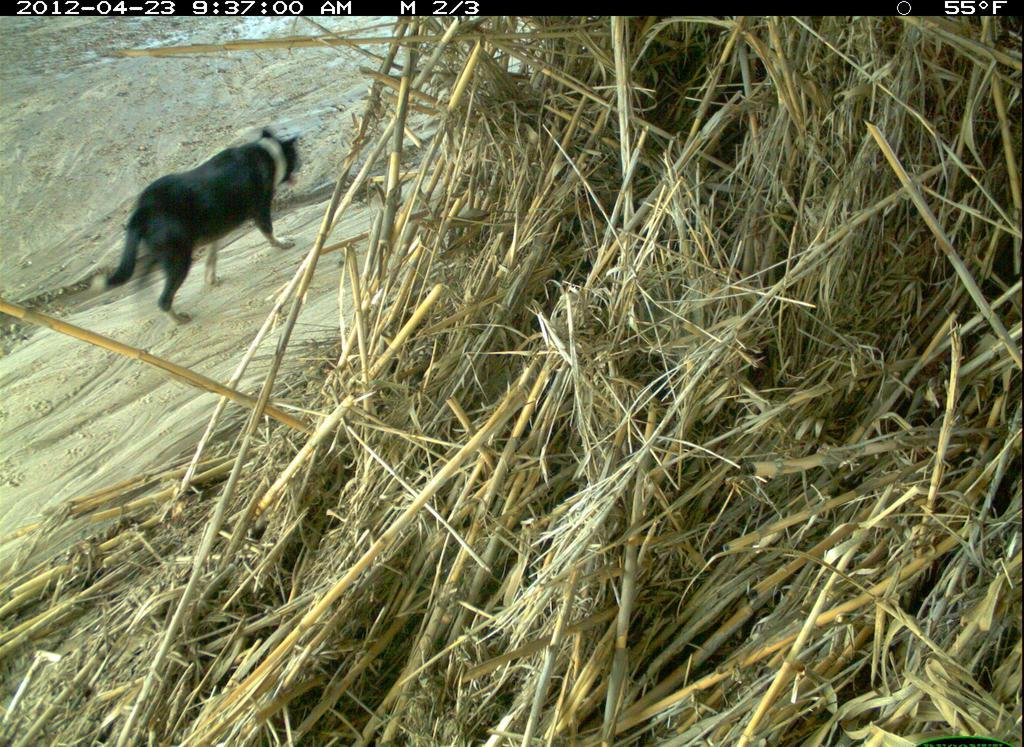dog: (94, 126, 304, 338)
